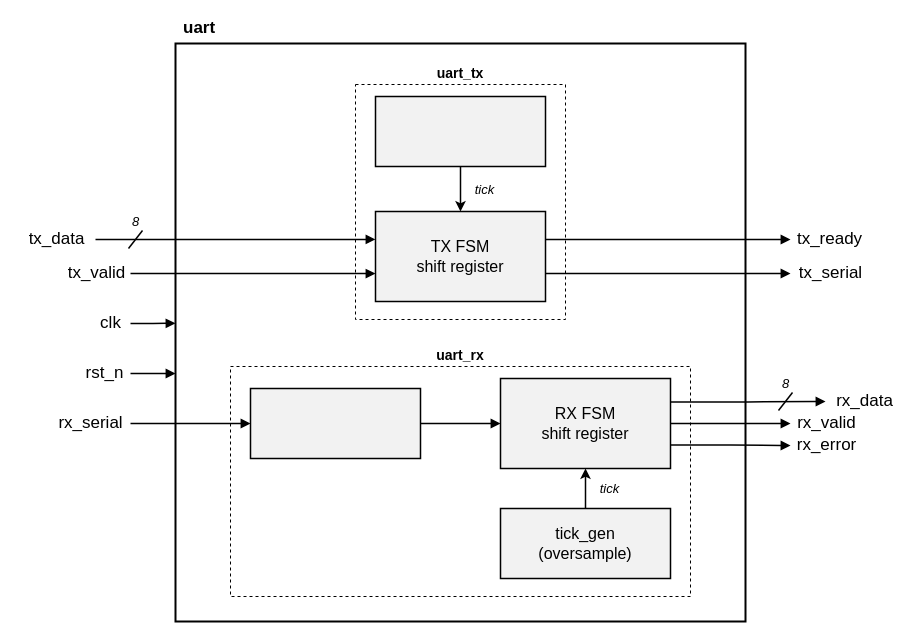
Some shapes in this 920 by 639 pixel diagram are drawn without their labels. Each missing label, with the centre of its shape:
"synchronizer (2-FF)" goes at point (335, 423).
"tick_gen (baud rate)" goes at point (460, 131).
